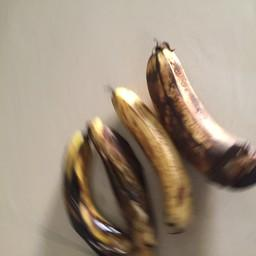Bad_banana: (57, 39, 256, 256), (147, 39, 256, 194), (109, 85, 195, 237)
